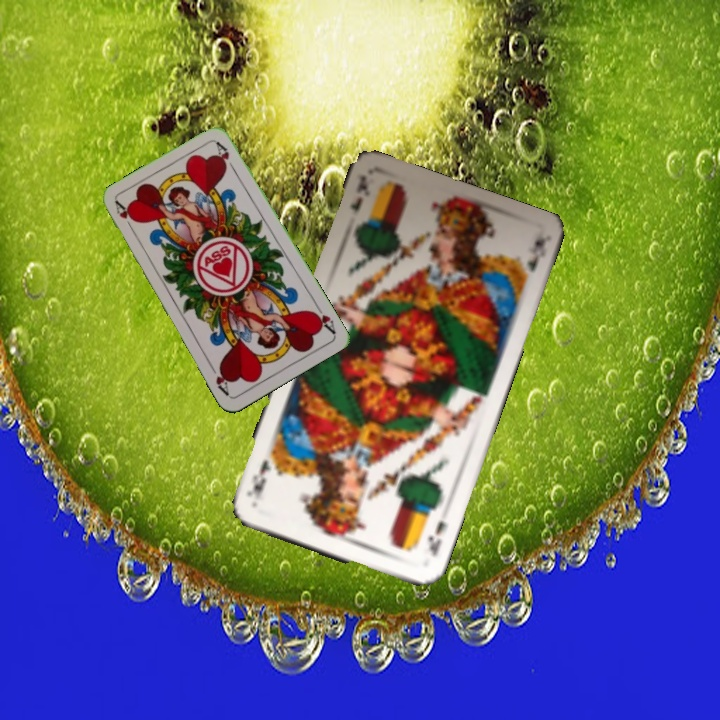EK: (347, 172, 372, 219), (424, 517, 450, 560)
HA: (307, 299, 338, 336), (111, 198, 137, 236)
